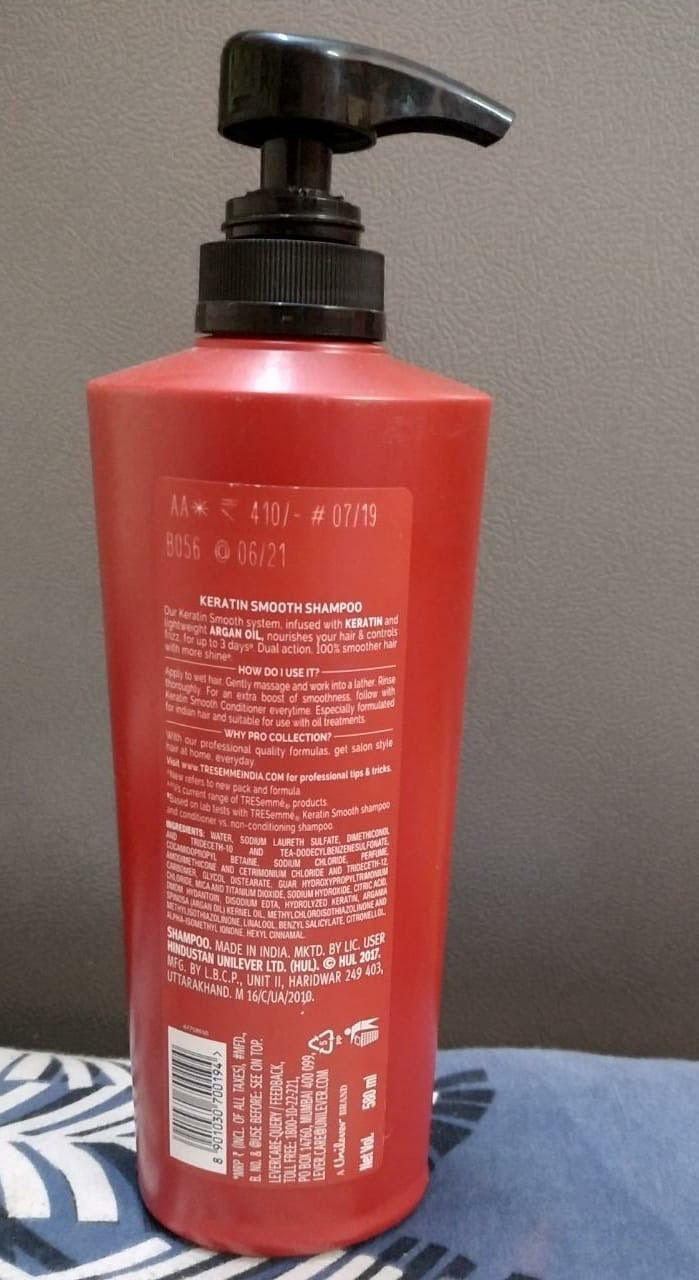barcode: (159, 1021, 237, 1190)
